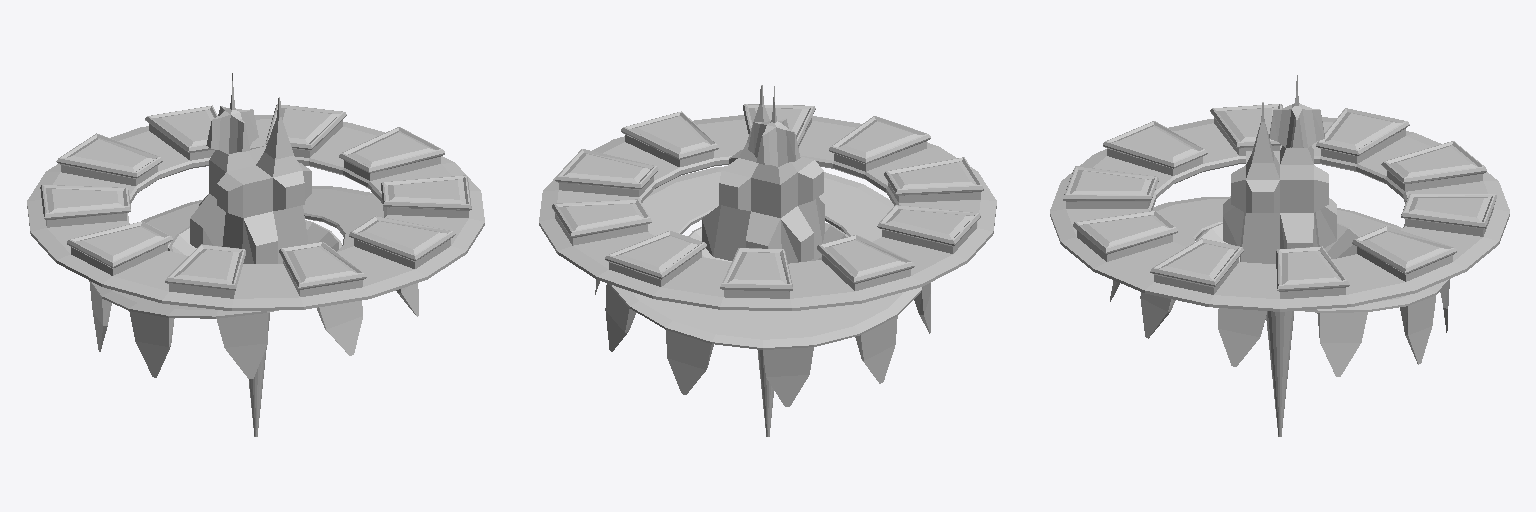
The model's file is spaceRand_05.obj.
3 renders of one model, left to right at view 1: azimuth 30°, elevation 25°; view 2: azimuth 150°, elevation 25°; view 3: azimuth 270°, elevation 25°, orthographic.
Parts seen in each view (by area): view 1: spaceRand_05 randSpace_grp; view 2: spaceRand_05 randSpace_grp; view 3: spaceRand_05 randSpace_grp.
Boxes of the visible parts, x1,y1,x2,y2 form: spaceRand_05 randSpace_grp: [27, 73, 484, 436]; spaceRand_05 randSpace_grp: [539, 85, 996, 436]; spaceRand_05 randSpace_grp: [1050, 75, 1509, 436].
Size of the model in its own units: 1632 by 1409 by 1632.